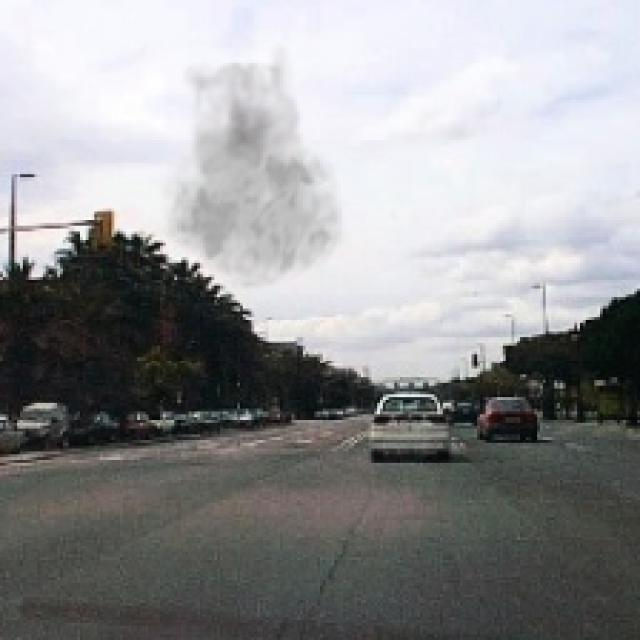smoke: (148, 43, 352, 291)
